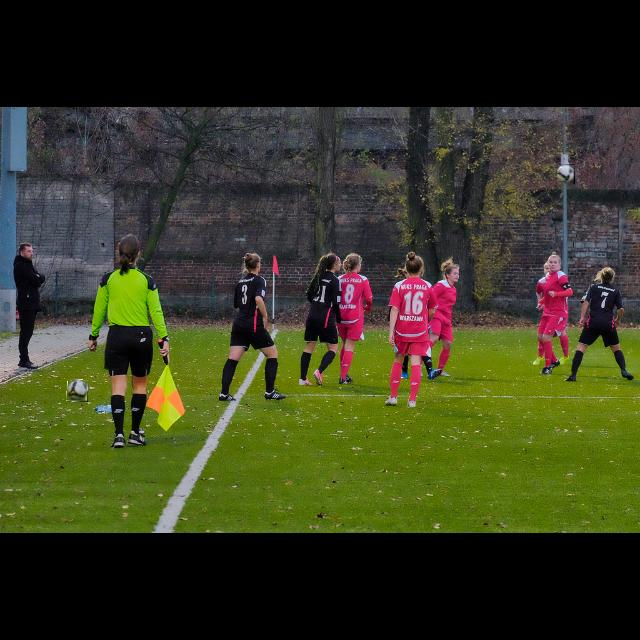Football: (66, 380, 88, 402), (557, 164, 575, 184)
